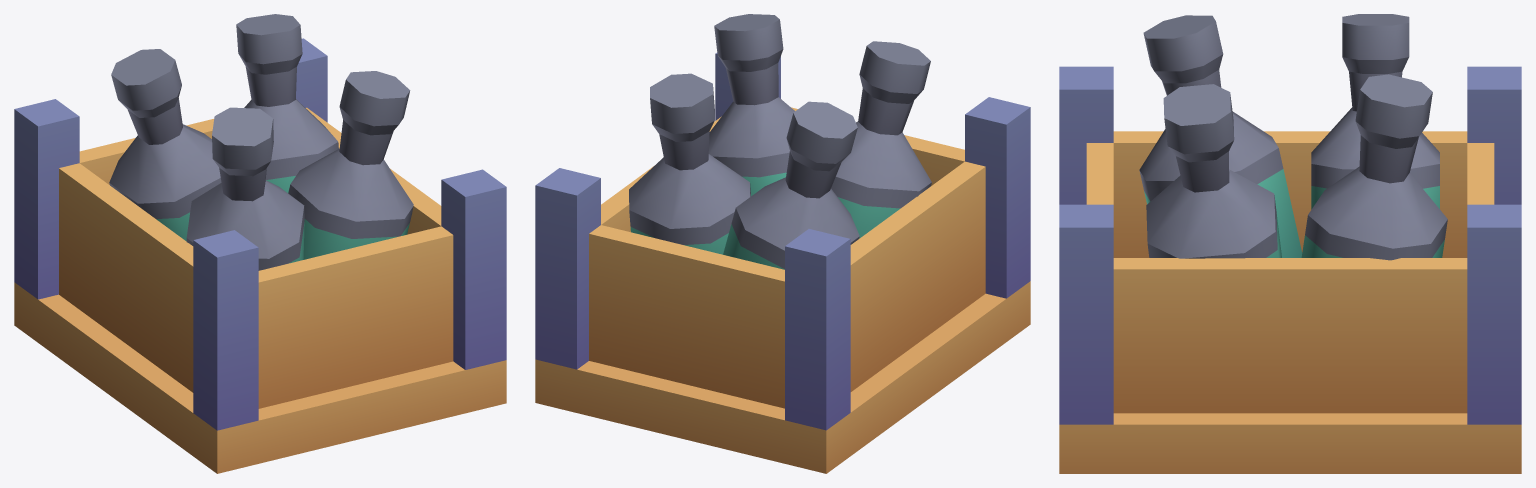
Rendered from crate-bottles.fbx.
3 views of the same model, side by side, from view 1: azimuth 30°, elevation 25°; view 2: azimuth 150°, elevation 25°; view 3: azimuth 270°, elevation 25° (orthographic). The views are drawn at different scales.
Visible parts, largest first — view 1: crate-bottles; view 2: crate-bottles; view 3: crate-bottles.
Part boxes in pixels (bbox=[...]): crate-bottles: bbox=[14, 14, 506, 473]; crate-bottles: bbox=[535, 14, 1030, 473]; crate-bottles: bbox=[1059, 14, 1521, 473].
Bounding box in the file's own units: 108 × 106 × 131.
